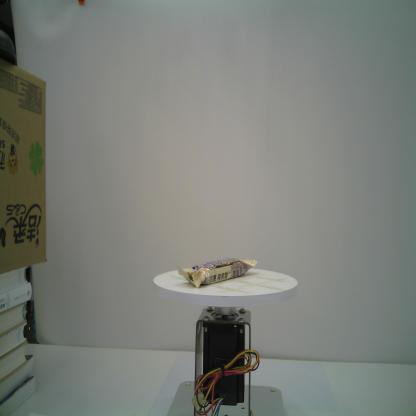Chocolate: (178, 256, 258, 288)
